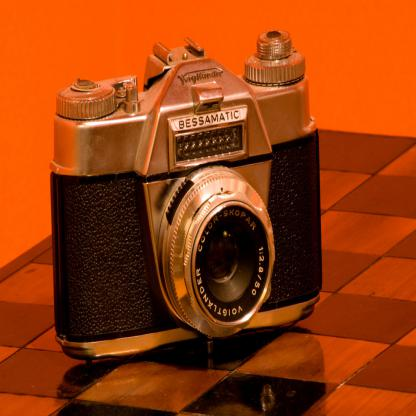Camera: (39, 23, 334, 374)
